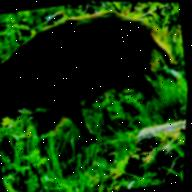boar: (0, 1, 181, 146)
